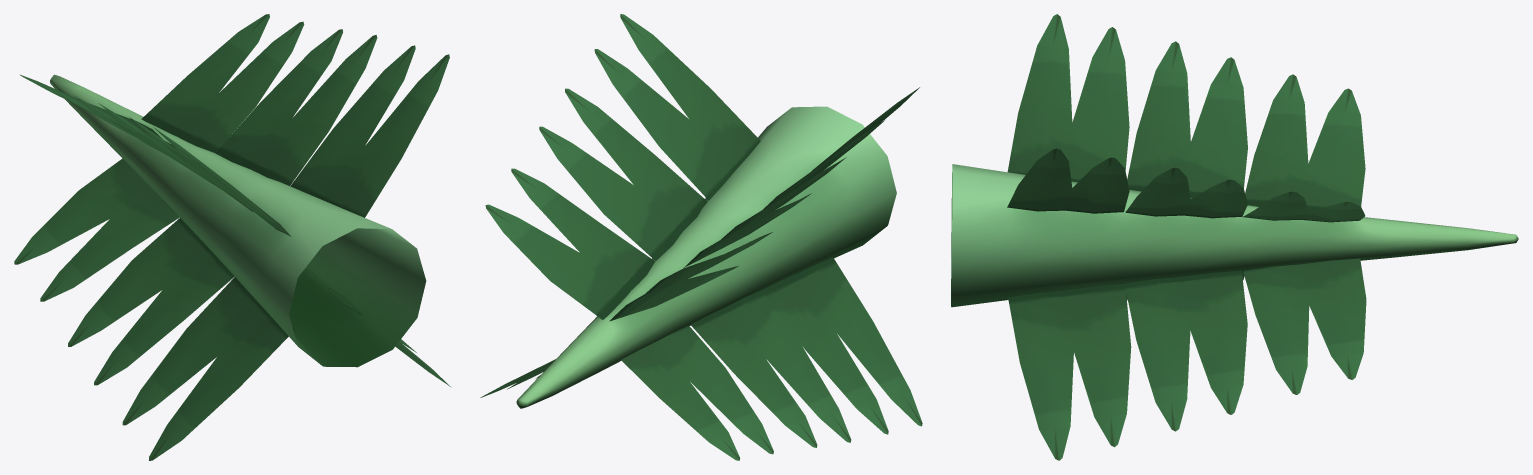
The model's file is eff_mesh_weiba.FBX.
3 views of the same model, side by side, from view 1: azimuth 30°, elevation 25°; view 2: azimuth 150°, elevation 25°; view 3: azimuth 270°, elevation 25° (orthographic). The views are drawn at different scales.
Parts seen in each view (by area): view 1: weiba; view 2: weiba; view 3: weiba.
Boxes of the visible parts, x1,y1,x2,y2 form: weiba: (14,14,451,460); weiba: (480,14,922,460); weiba: (951,14,1518,460).
Bounding box in the file's own units: 0.6177 × 0.653 × 1.08.
